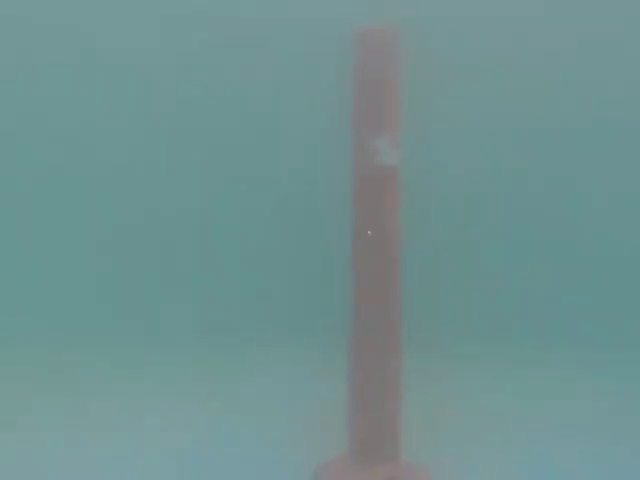flare: (318, 12, 454, 480)
